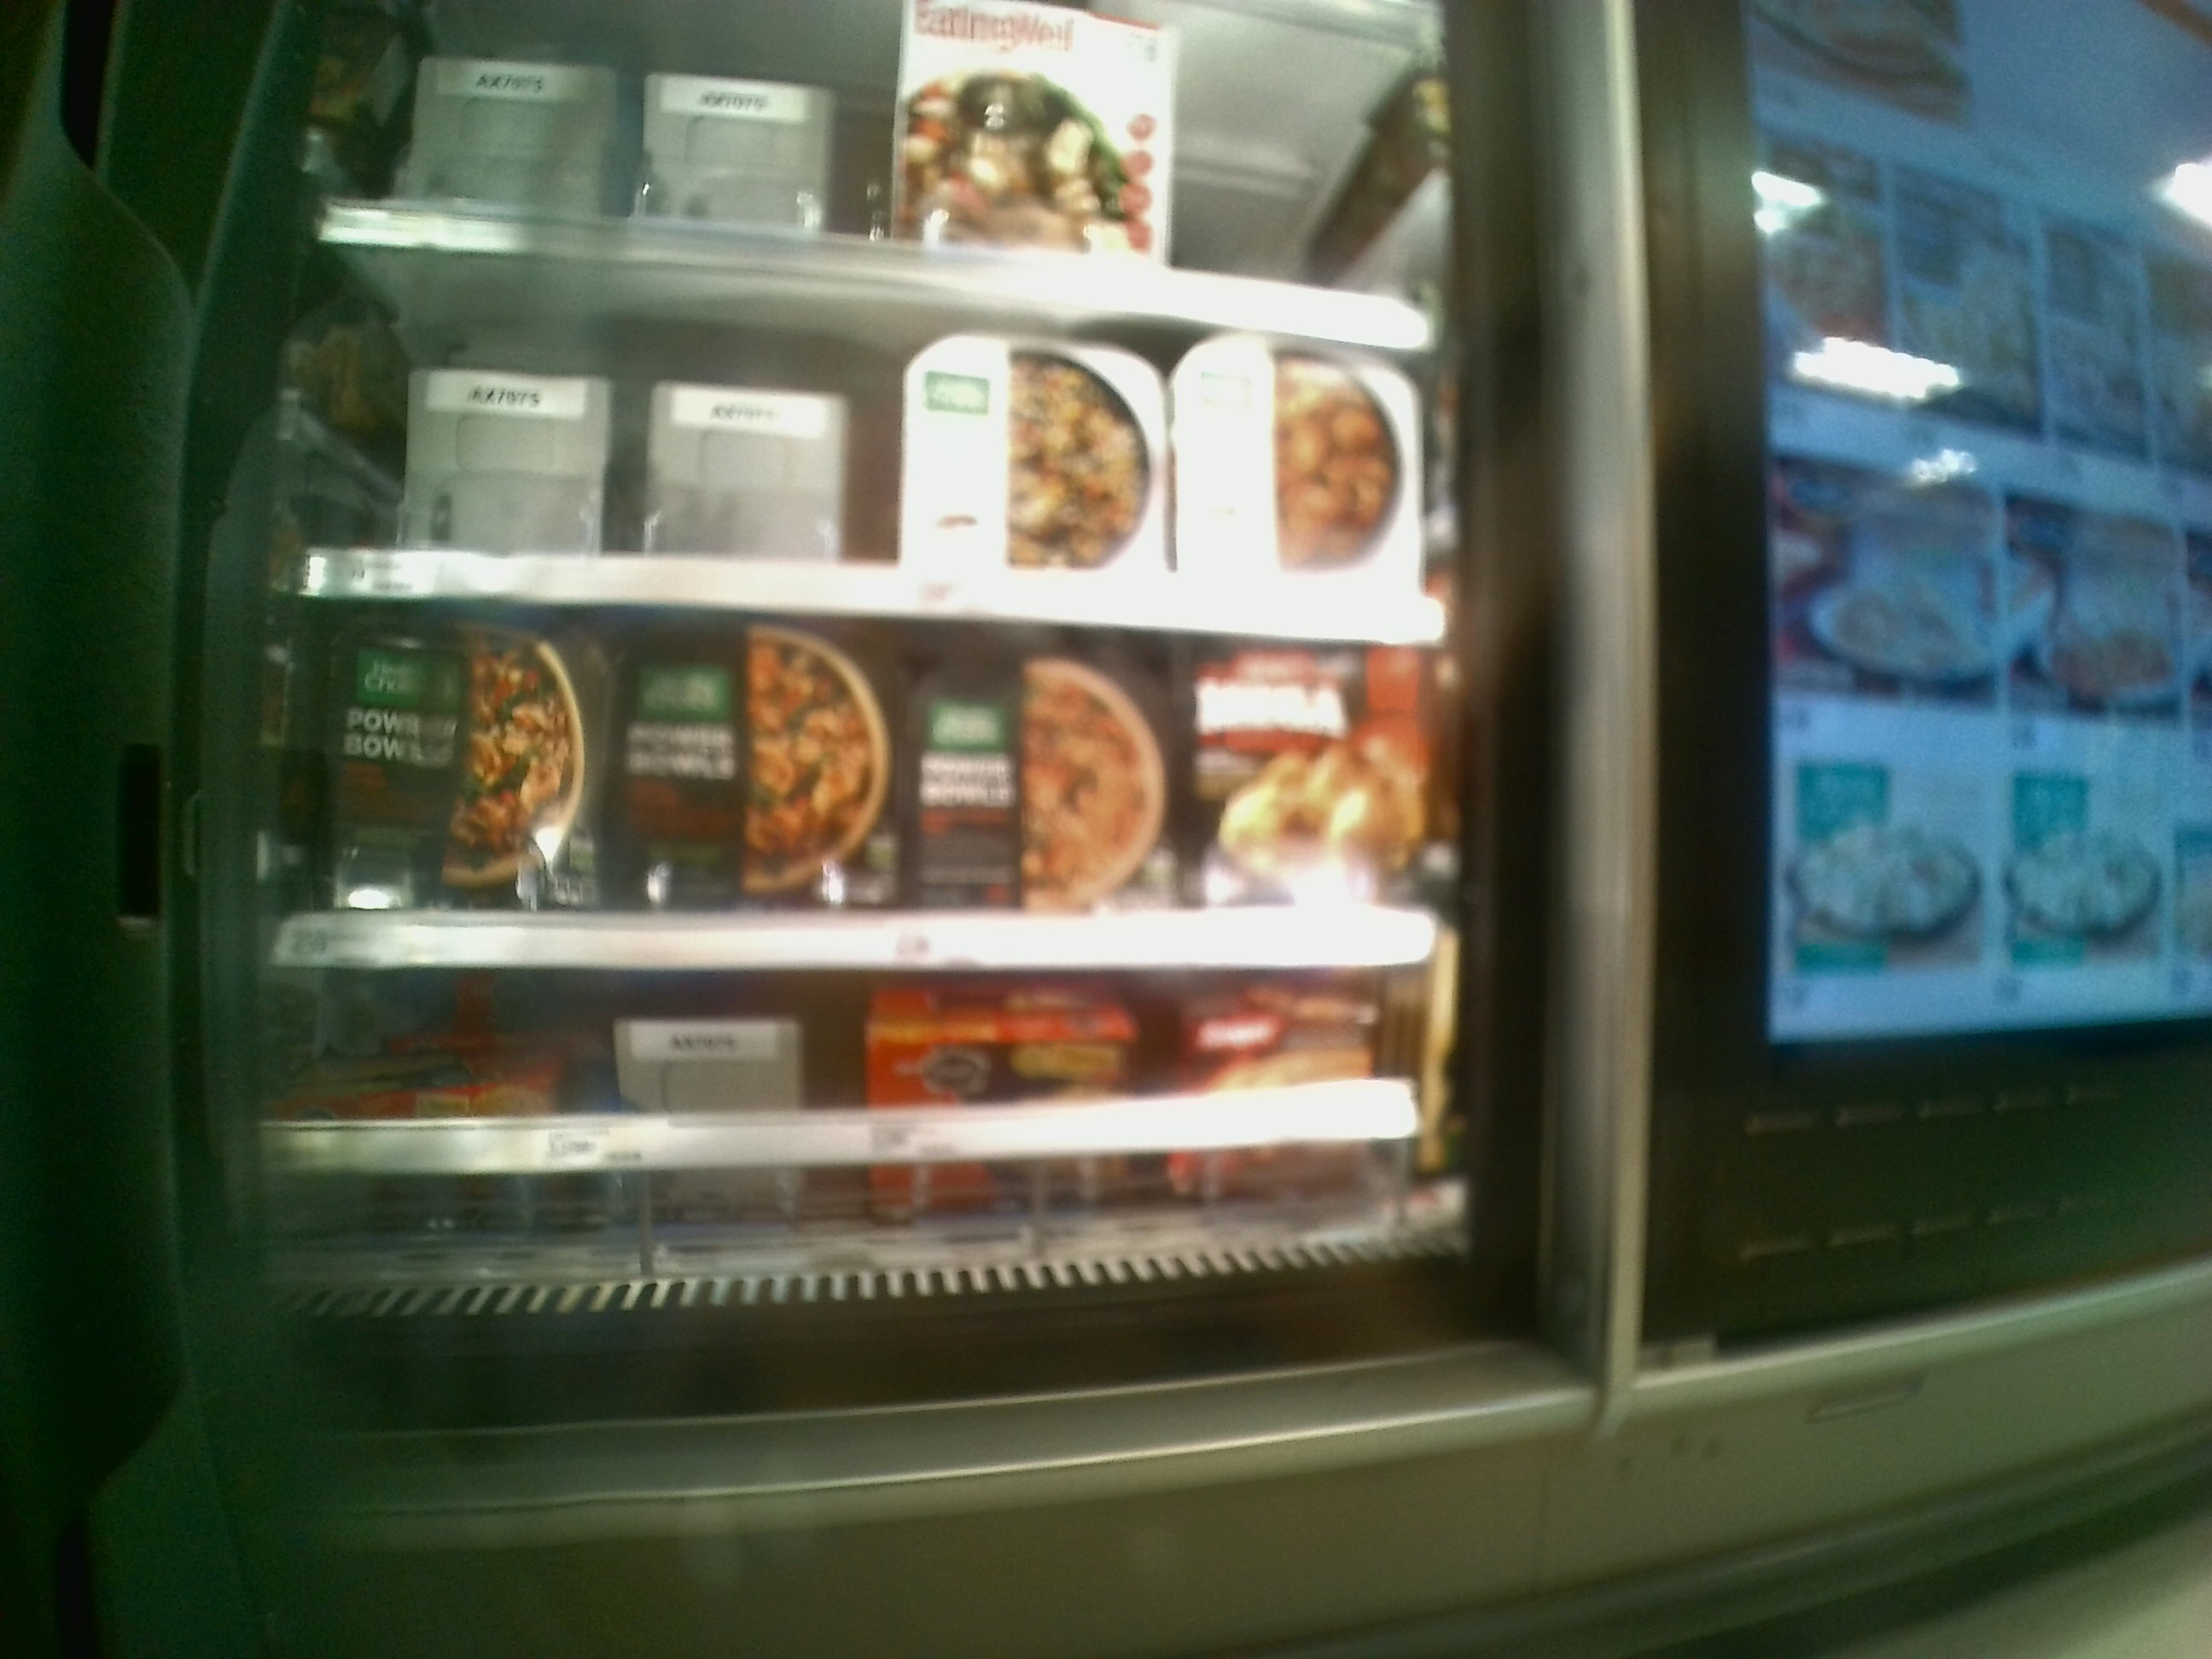Shelf: (296, 227, 1446, 633), (265, 592, 1458, 972), (246, 974, 1453, 1331)
